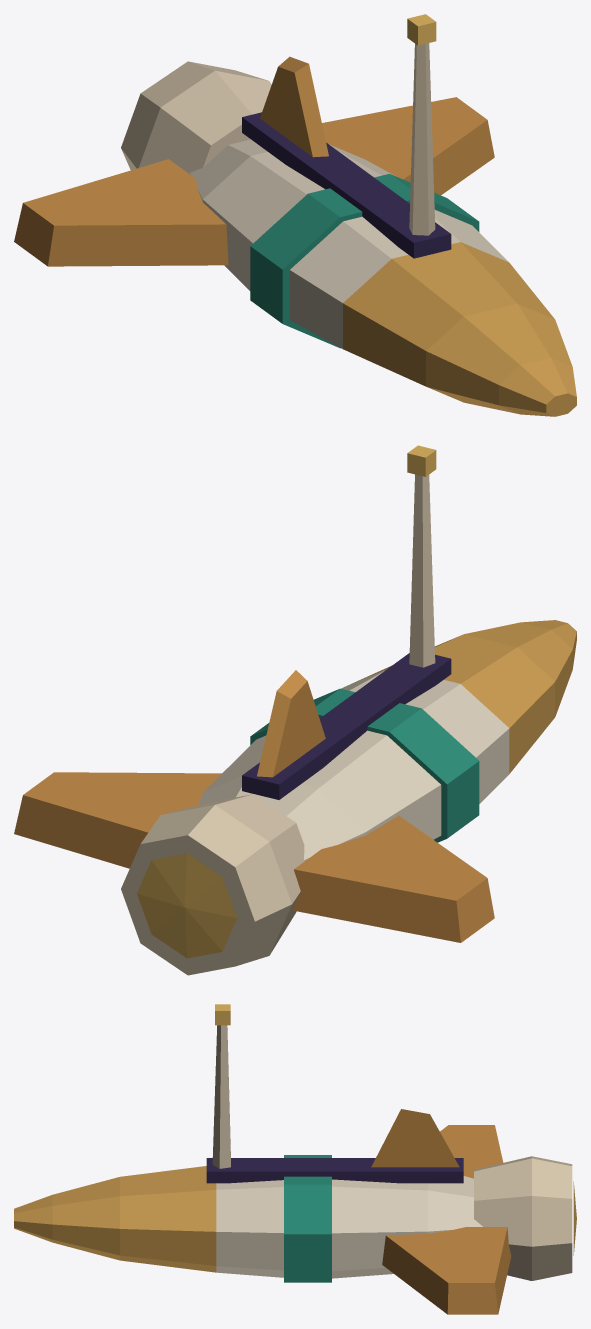
File: lamp_launch.gltf
The picture shows the model from 3 angles, top to bottom: view 1: azimuth 30°, elevation 25°; view 2: azimuth 150°, elevation 25°; view 3: azimuth 270°, elevation 25°; orthographic projection. The views are drawn at different scales.
Parts seen in each view (by area): view 1: hull, wings, engine, stripe, lamp, pennant; view 2: hull, wings, engine, stripe, lamp, pennant; view 3: hull, wings, engine, stripe, pennant, lamp.
Boxes of the visible parts, bbox=[...] form: hull: bbox=[189, 139, 576, 416]; wings: bbox=[14, 97, 494, 266]; engine: bbox=[121, 61, 271, 174]; stripe: bbox=[242, 112, 451, 258]; lamp: bbox=[407, 14, 436, 235]; pennant: bbox=[260, 56, 328, 157]; hull: bbox=[199, 620, 576, 861]; wings: bbox=[14, 772, 494, 942]; engine: bbox=[121, 794, 304, 975]; stripe: bbox=[242, 653, 451, 799]; lamp: bbox=[407, 445, 436, 667]; pennant: bbox=[257, 670, 325, 777]; hull: bbox=[14, 1155, 482, 1282]; wings: bbox=[382, 1125, 511, 1314]; engine: bbox=[474, 1156, 576, 1280]; stripe: bbox=[206, 1158, 463, 1183]; pennant: bbox=[371, 1109, 459, 1167]; lamp: bbox=[212, 1004, 230, 1168].
Size of the model in its own units: 2.4 by 1.86 by 3.5.
